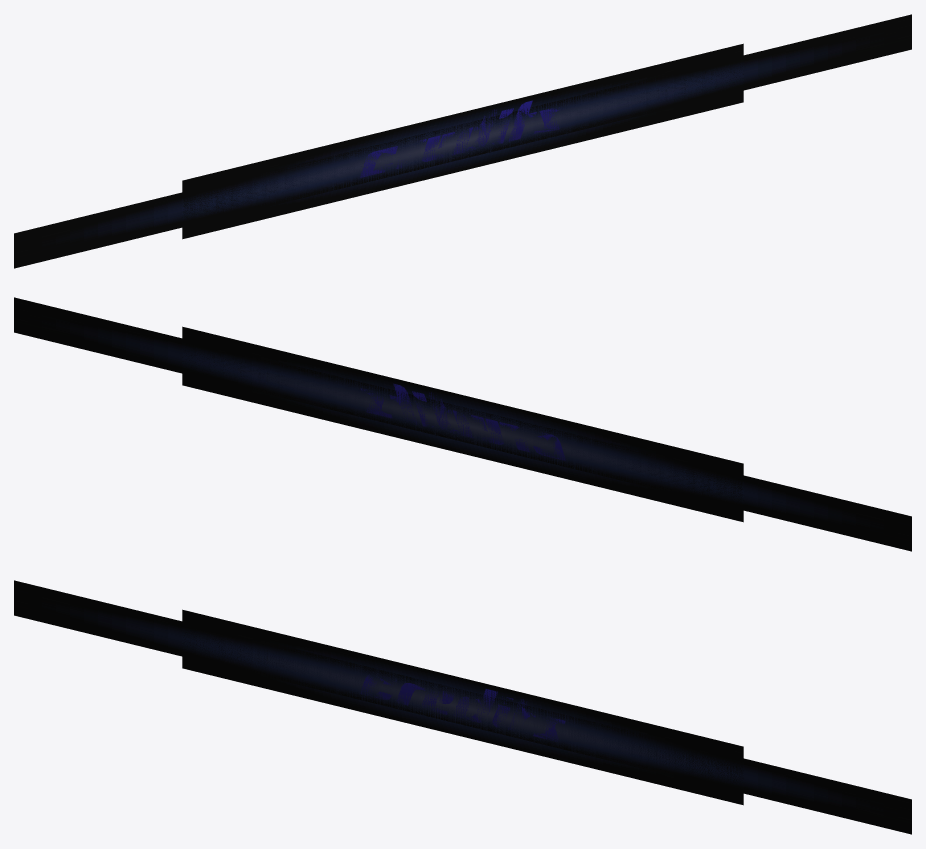
The picture shows the model from 3 angles, top to bottom: view 1: azimuth 30°, elevation 25°; view 2: azimuth 150°, elevation 25°; view 3: azimuth 330°, elevation 25°; orthographic projection.
Parts seen in each view (by area): view 1: part02, part01, B_Button01; view 2: part02, part01, B_Button01; view 3: part02, part01, B_Button01.
Part boxes in pixels (x1=…): part02: x1=14, y1=14, x2=911, y2=268; part01: x1=182, y1=43, x2=743, y2=239; B_Button01: x1=360, y1=100, x2=559, y2=177; part02: x1=14, y1=297, x2=911, y2=551; part01: x1=182, y1=326, x2=743, y2=522; B_Button01: x1=361, y1=383, x2=565, y2=460; part02: x1=14, y1=580, x2=911, y2=834; part01: x1=182, y1=609, x2=743, y2=805; B_Button01: x1=360, y1=674, x2=565, y2=741.
Bounding box in the file's own units: 400 × 25 × 0.
Materials: 2 (2 with a texture image).
